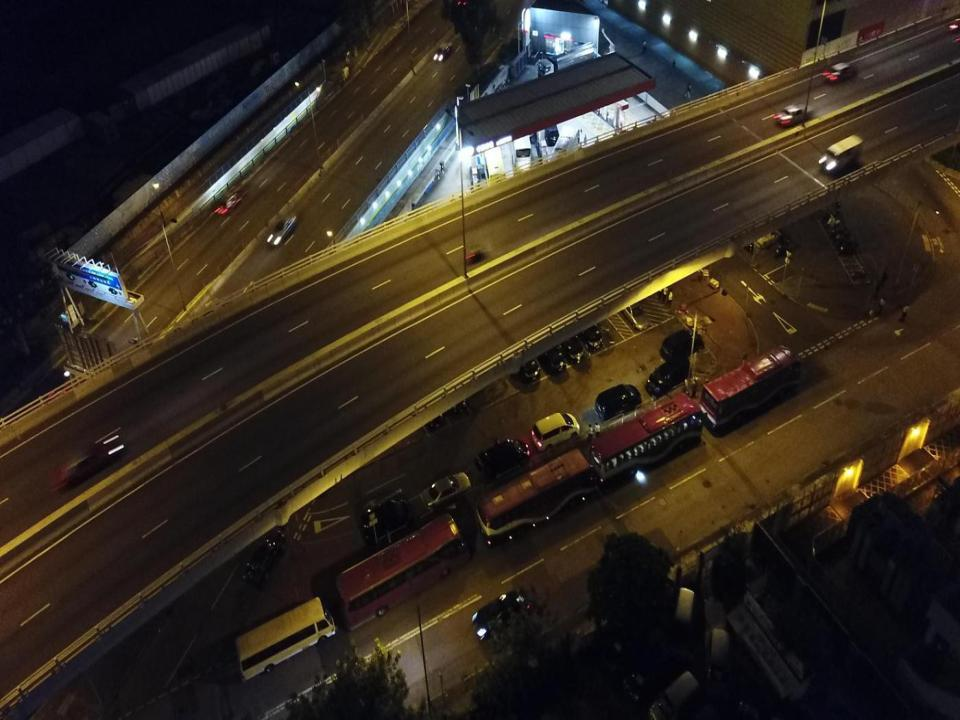bus: (334, 511, 470, 632), (476, 448, 594, 546), (589, 391, 704, 488), (235, 596, 336, 682), (699, 344, 800, 430), (545, 126, 581, 208), (483, 121, 506, 192)
car: (54, 434, 124, 491), (622, 639, 674, 700), (472, 588, 531, 640), (243, 524, 286, 588), (360, 497, 413, 546), (647, 671, 699, 719), (420, 470, 471, 512), (706, 626, 733, 702), (671, 586, 697, 653), (416, 378, 445, 433), (556, 314, 585, 364), (618, 288, 650, 330), (444, 372, 466, 416), (268, 212, 296, 246), (775, 103, 812, 127), (215, 189, 246, 215), (824, 61, 856, 85), (434, 40, 452, 62)
truck: (538, 42, 594, 88), (511, 105, 531, 176)
van: (474, 438, 531, 481), (532, 410, 580, 453), (646, 356, 691, 398), (594, 383, 642, 421), (534, 320, 567, 374), (820, 134, 864, 174), (512, 325, 541, 385), (568, 302, 603, 351), (662, 329, 702, 360), (545, 112, 560, 146)
